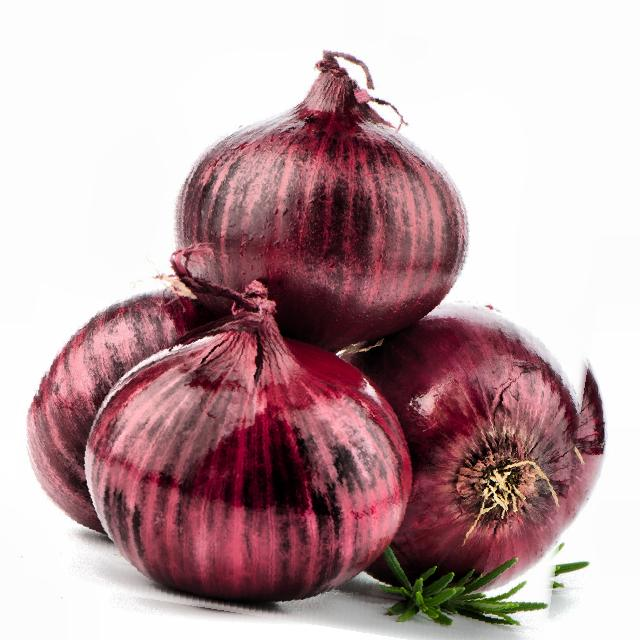onion: (1, 2, 612, 639)
